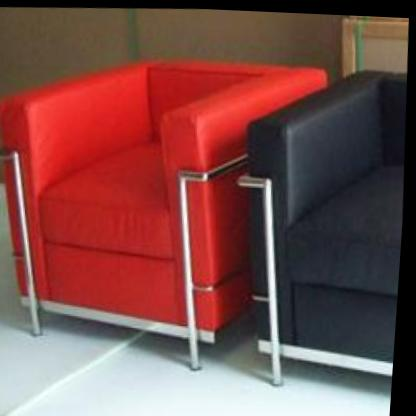Sofa: (0, 48, 338, 392)
